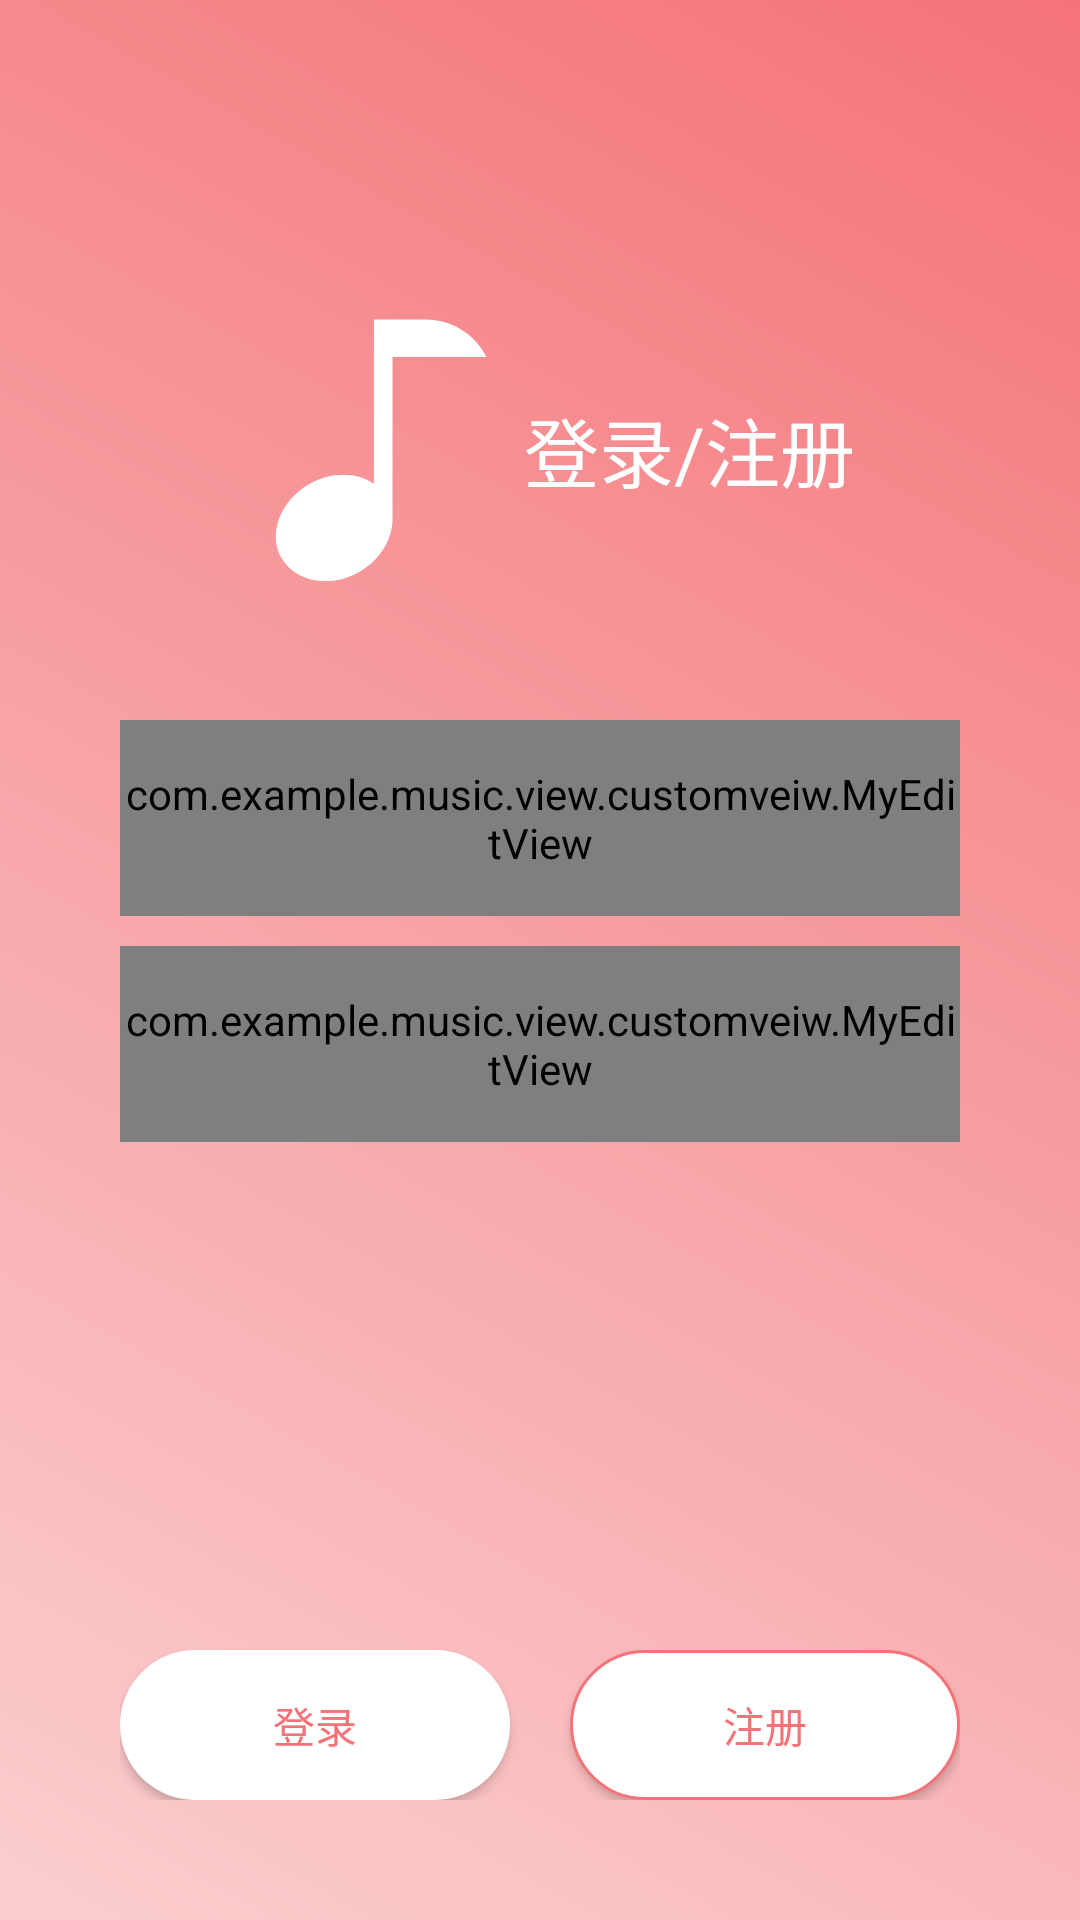

Icons on this 1080px×1920px Android screen, each with its box as (x1, y1, x2, y2):
music note: (276, 319, 486, 582)
